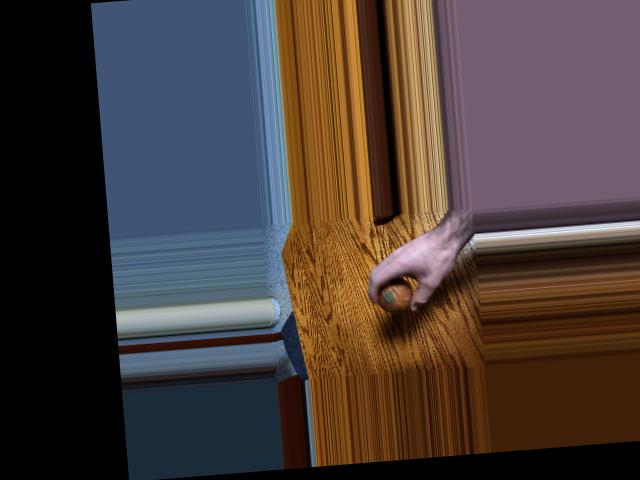onion: (374, 278, 415, 315)
